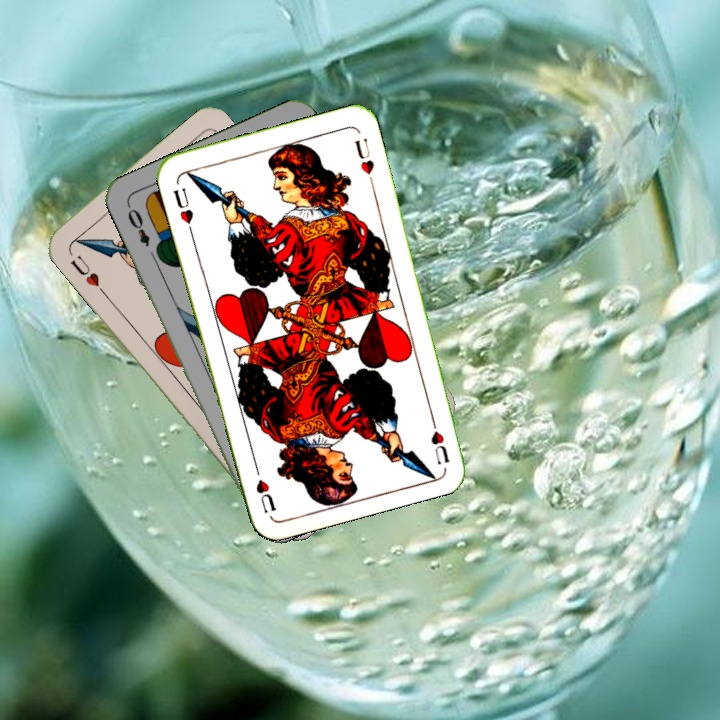EO: (123, 204, 153, 250)
HU: (66, 250, 107, 296), (426, 409, 452, 468), (169, 183, 196, 227)
